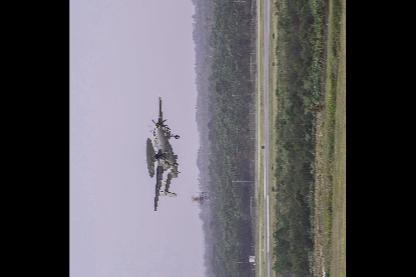C5: (146, 94, 180, 210)
